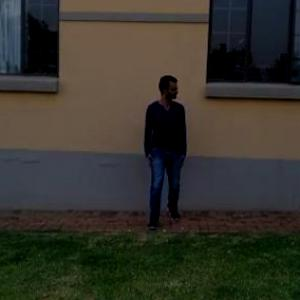follow: (145, 74, 189, 225)
